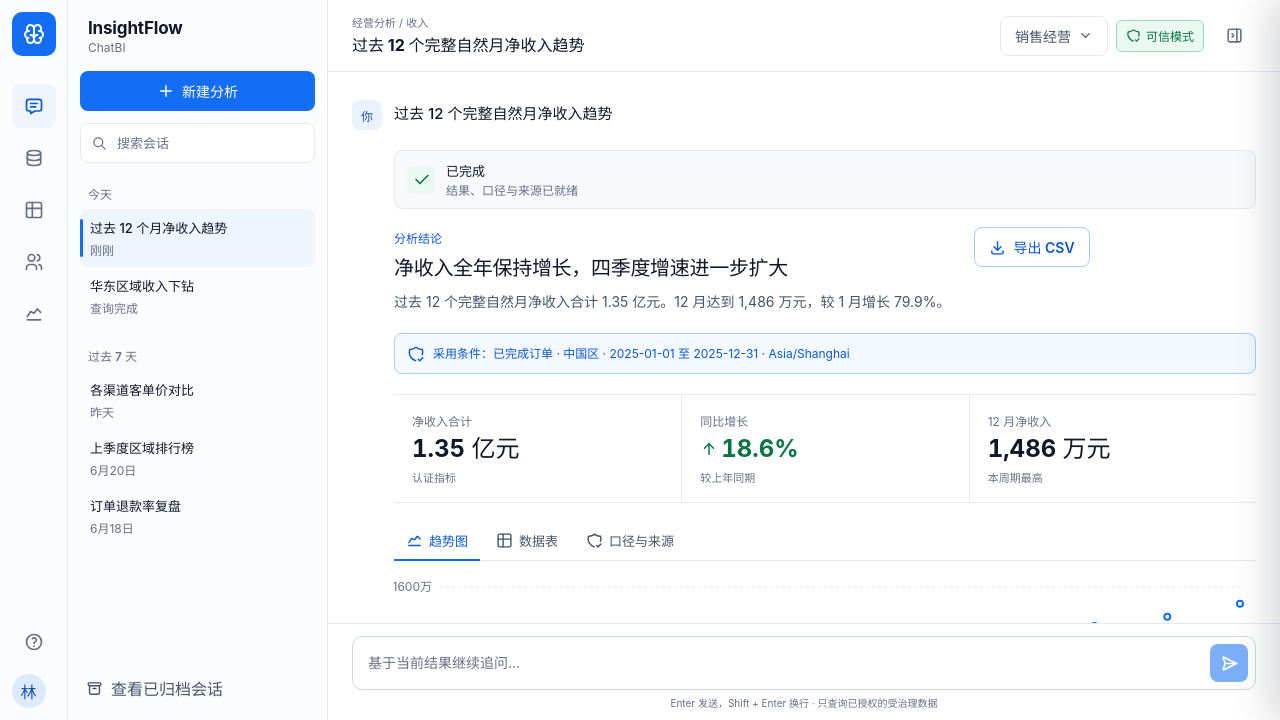
Test: Workbench UI › keeps ambiguous questions in clarification state until a candidate is selected
Type "最近销售情况怎么样" into the text box named "输入分析问题". click: coordinates (784, 663)
box: [366, 650, 1202, 676]
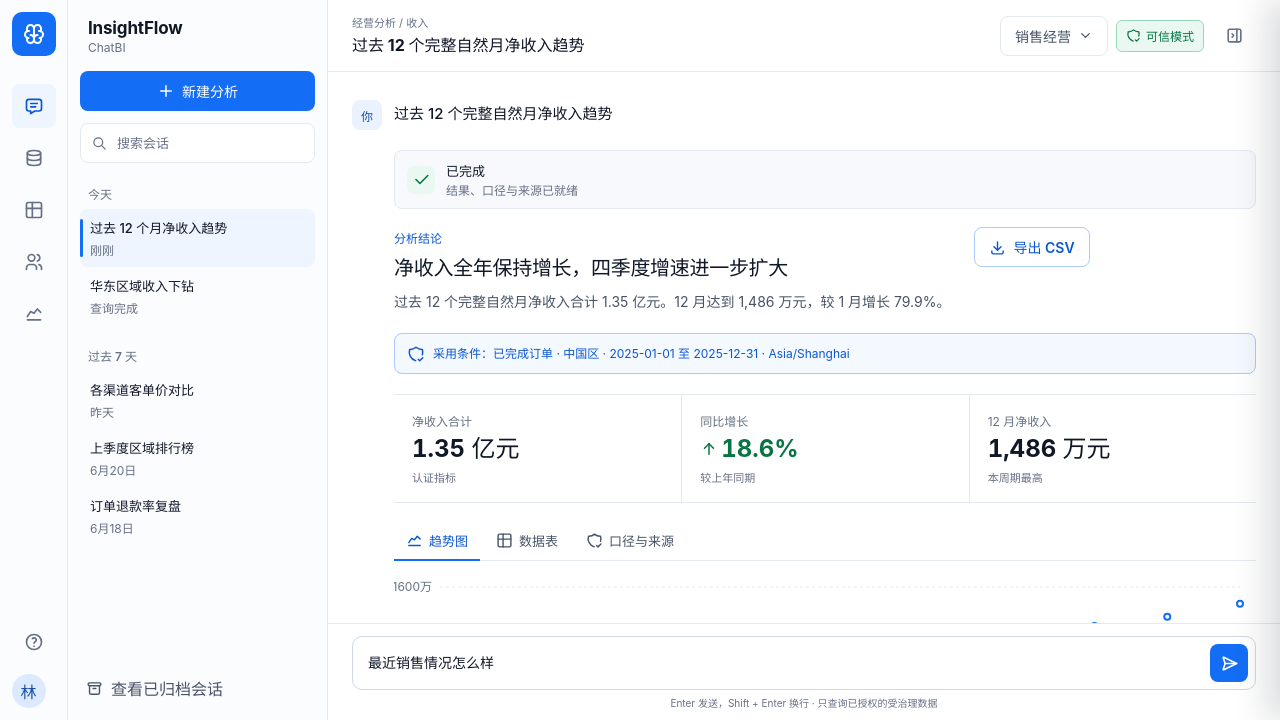
Click the button named "开始分析". click: coordinates (1229, 663)
box: [1210, 644, 1248, 682]
Wait 500 ms
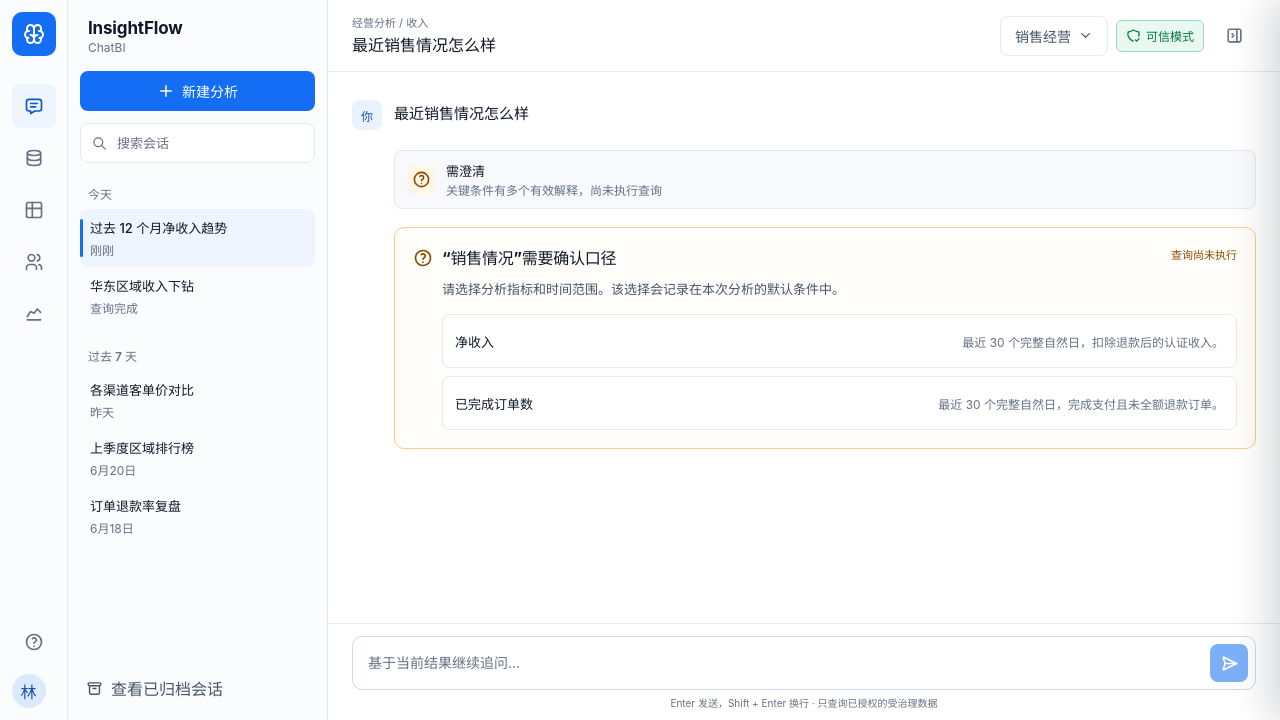
Check: the text "需澄清" is shown, box [446, 163, 485, 179]
Check: the text "查询尚未执行" is shown, box [1171, 246, 1237, 262]
Check: the heading "“销售情况”需要确认口径" is shown, box [442, 246, 616, 270]
Click the button "净收入 最近 30 个完整自然日，扣除退款后的认证收入。". click: coordinates (475, 342)
box: [442, 314, 1237, 368]
Wait 1200 ms
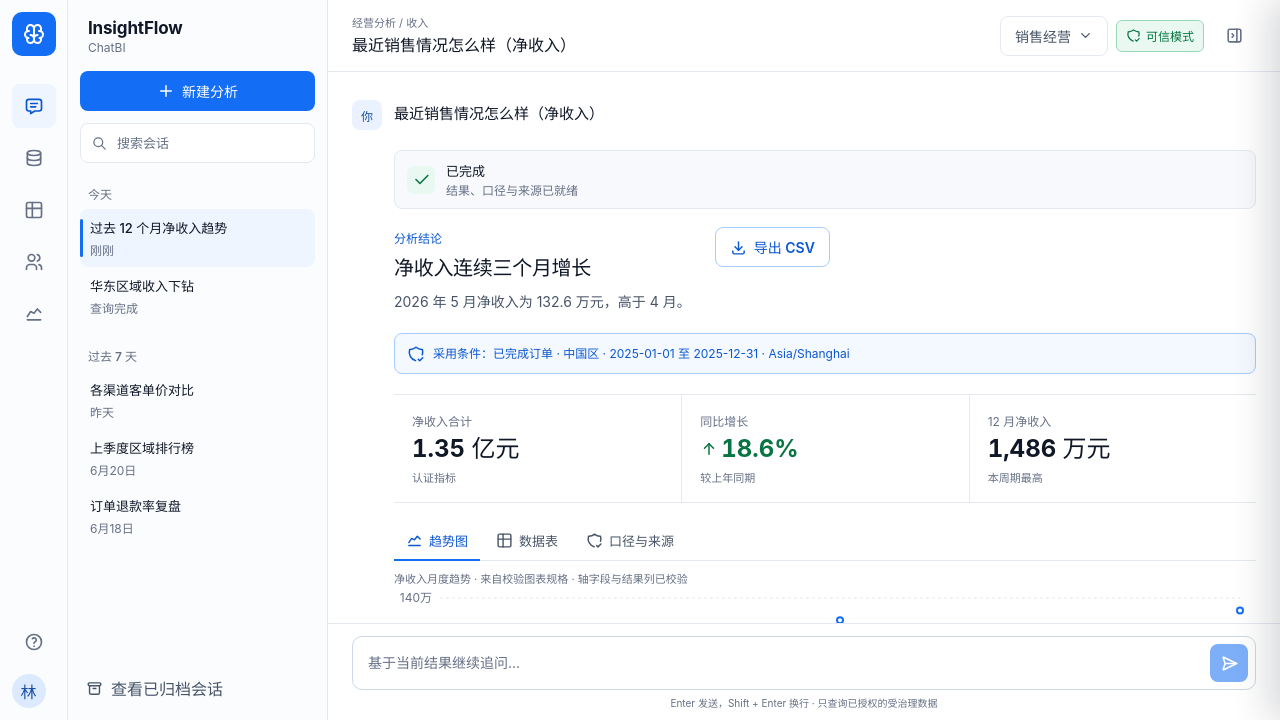
Check: the text "已完成" is shown, box [446, 163, 485, 179]
Check: the heading "最近销售情况怎么样（净收入）" is shown, box [352, 32, 576, 56]
